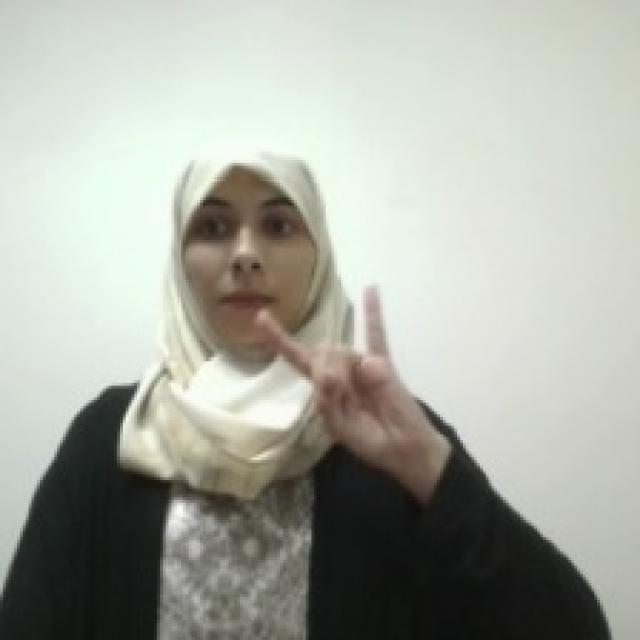No: (253, 279, 409, 456)
